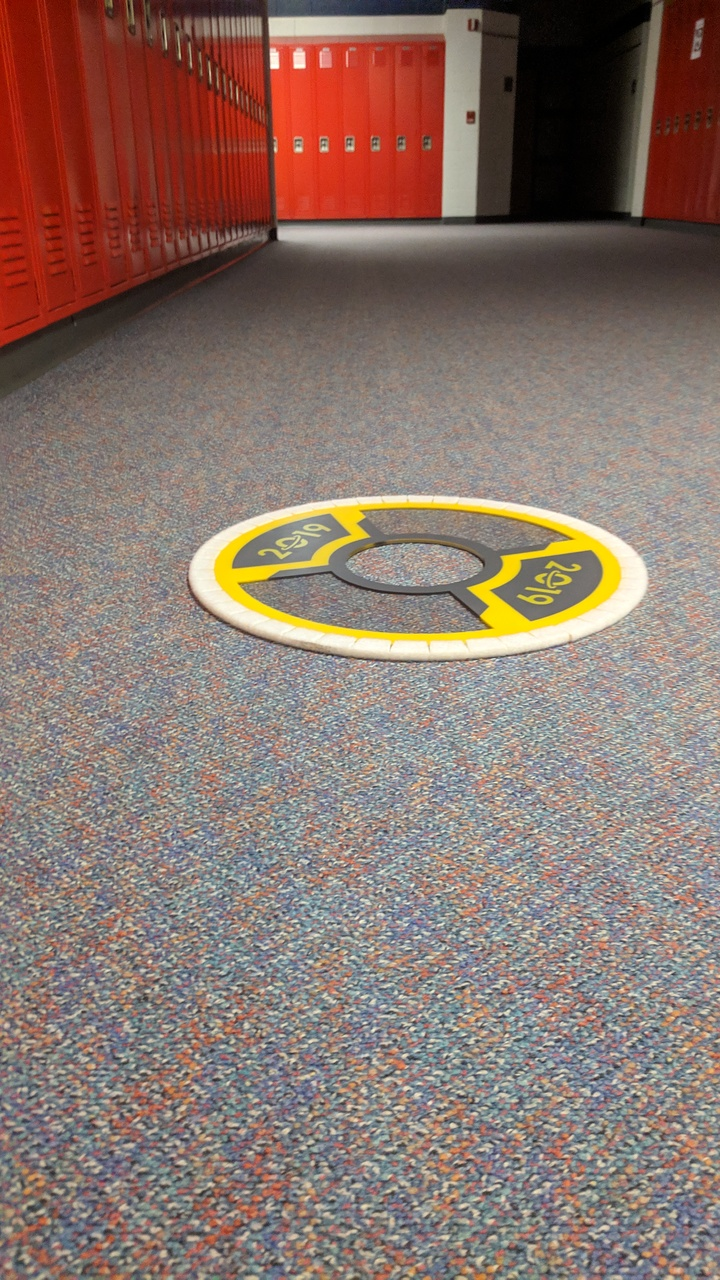hatch_panel: (177, 489, 665, 666)
